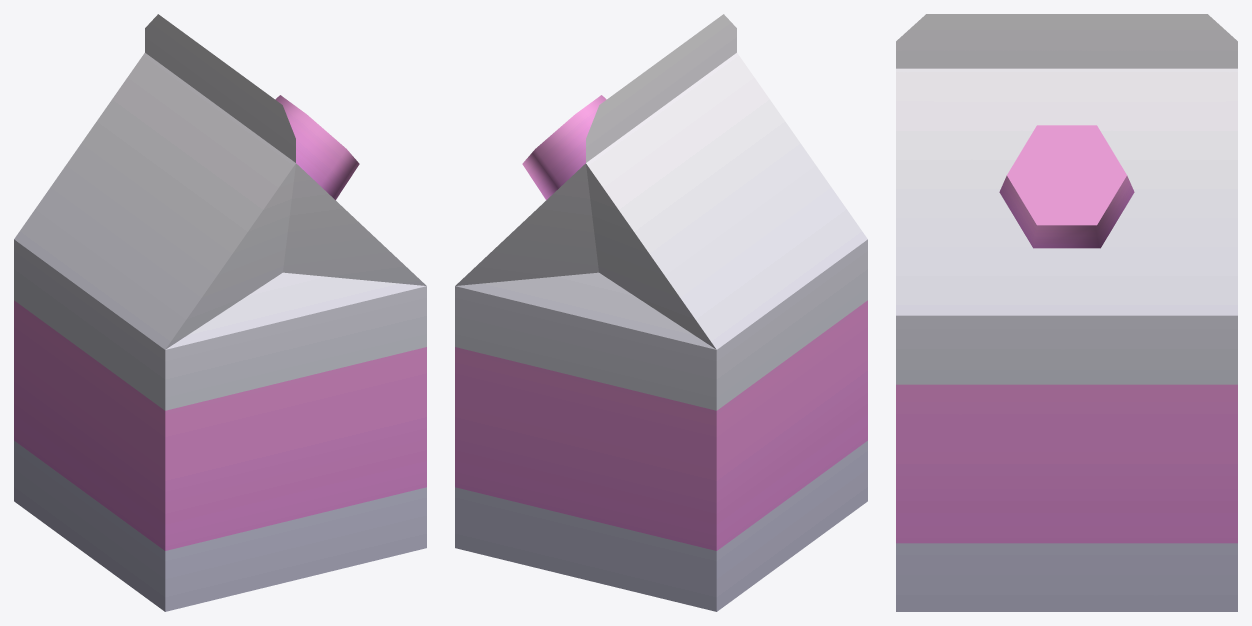
The model's file is carton-small.e4c26ce824.glb.
3 views of the same model, side by side, from view 1: azimuth 30°, elevation 25°; view 2: azimuth 150°, elevation 25°; view 3: azimuth 270°, elevation 25° (orthographic). The views are drawn at different scales.
Visible parts, largest first — view 1: carton-small; view 2: carton-small; view 3: carton-small.
Part boxes in pixels (x1,y1,x2,y2): carton-small: (14,14,426,611); carton-small: (455,14,867,611); carton-small: (896,14,1237,611).
Size of the model in its own units: 0.23 by 0.3905 by 0.23.
Materials: 1 (1 with a texture image).
